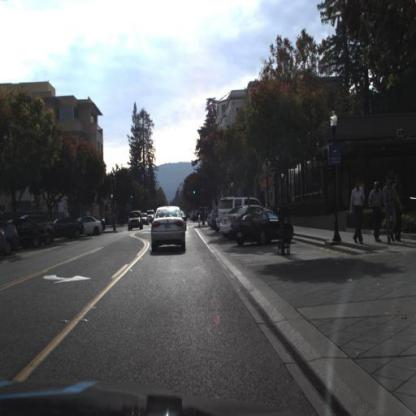car: (230, 208, 293, 247), (149, 204, 189, 258), (220, 201, 268, 241), (215, 196, 264, 235), (6, 214, 55, 250), (49, 216, 88, 243), (54, 214, 88, 242), (77, 213, 105, 236), (80, 216, 107, 239), (124, 209, 145, 237)
pedestrian: (384, 176, 404, 244), (349, 177, 367, 248), (369, 181, 386, 244), (393, 175, 404, 243)
trafficLight-Green: (130, 191, 135, 204), (193, 186, 198, 199)
